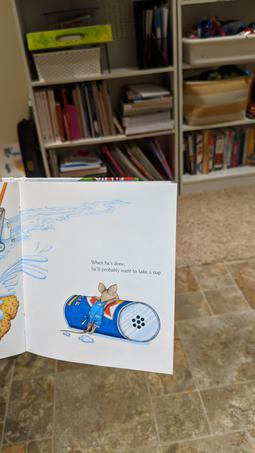text block: (79, 253, 168, 282)
